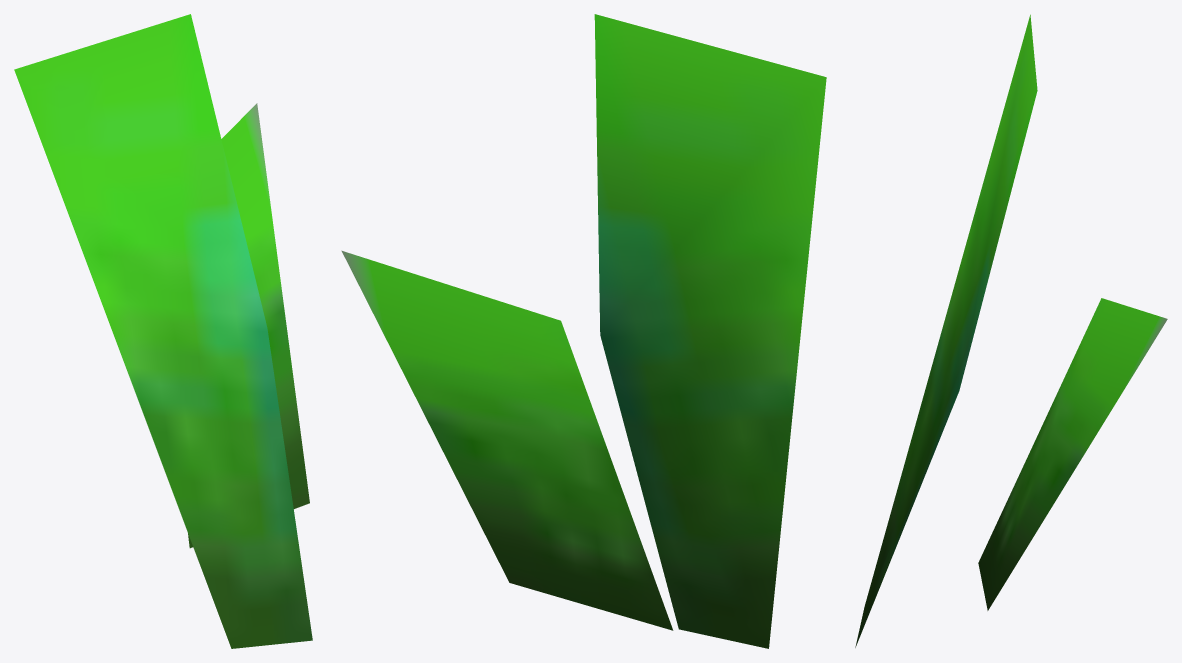
File: fg_grassA.dae
3 renders of one model, left to right at view 1: azimuth 30°, elevation 25°; view 2: azimuth 150°, elevation 25°; view 3: azimuth 270°, elevation 25°, orthographic. The views are drawn at different scales.
Parts seen in each view (by area): view 1: fg_grassA; view 2: fg_grassA; view 3: fg_grassA.
Boxes of the visible parts, left/top/right/bottom form: fg_grassA: left=14, top=14, right=312, bottom=648; fg_grassA: left=341, top=14, right=826, bottom=648; fg_grassA: left=855, top=14, right=1167, bottom=647.
Bounding box in the file's own units: 11.97 × 20.54 × 10.68.
Materials: 1 (1 with a texture image).
